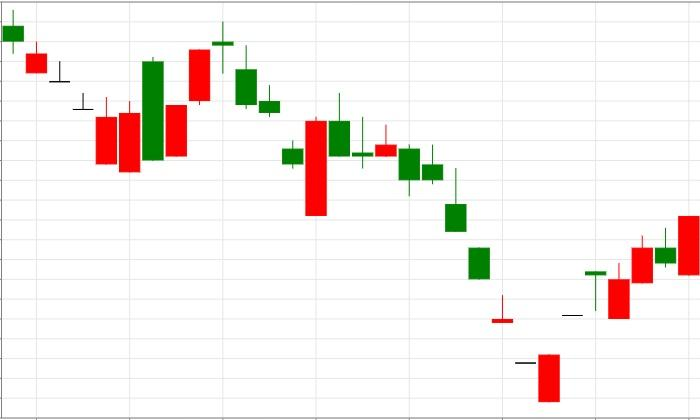bullish_engulfing_rise: (212, 20, 327, 217)
evening_star_fall: (118, 21, 256, 172)
